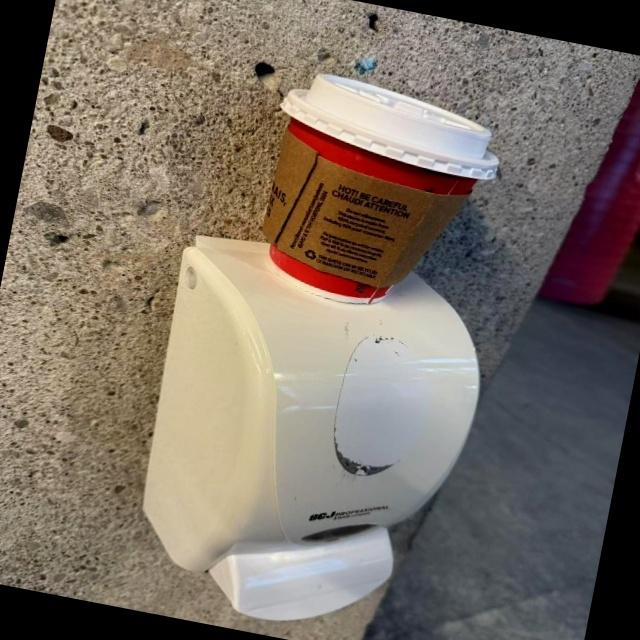Timmies: (230, 58, 542, 336)
